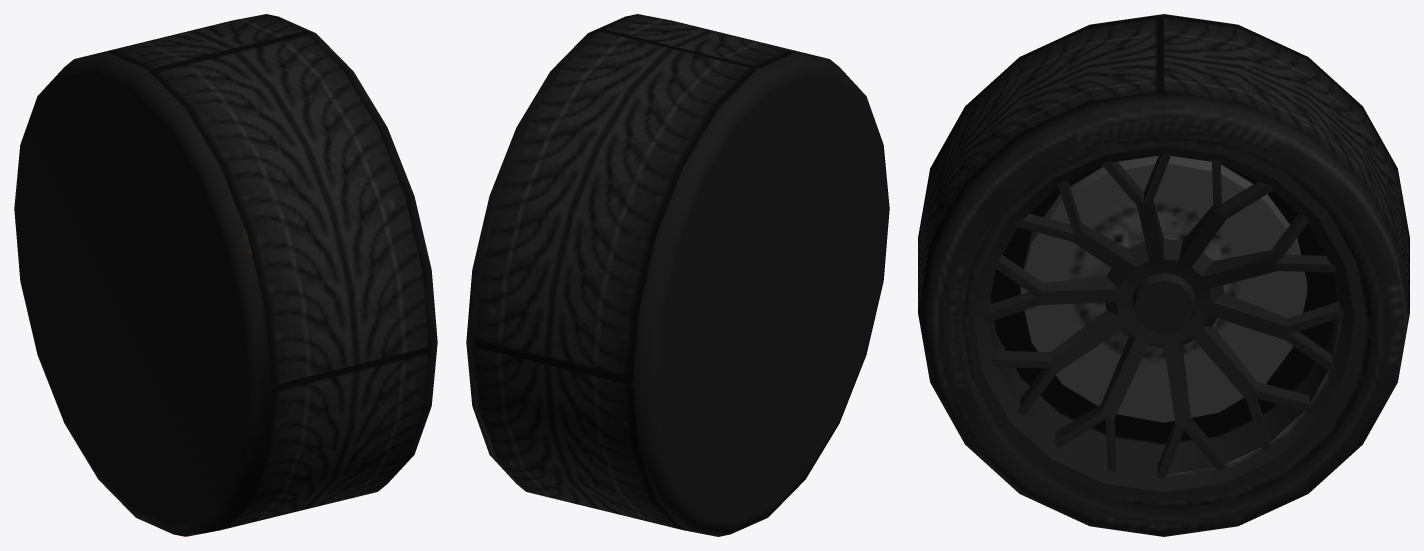
Rendered from Wheel.obj.
The picture shows the model from 3 angles, left to right: view 1: azimuth 30°, elevation 25°; view 2: azimuth 150°, elevation 25°; view 3: azimuth 270°, elevation 25°; orthographic projection.
Visible parts, largest first — view 1: Wheel; view 2: Wheel; view 3: Wheel.
Part boxes in pixels (x1=…): Wheel: x1=14, y1=14, x2=437, y2=536; Wheel: x1=466, y1=14, x2=889, y2=536; Wheel: x1=918, y1=14, x2=1409, y2=536.
Bounding box in the file's own units: 30.5 × 69.12 × 69.12.
